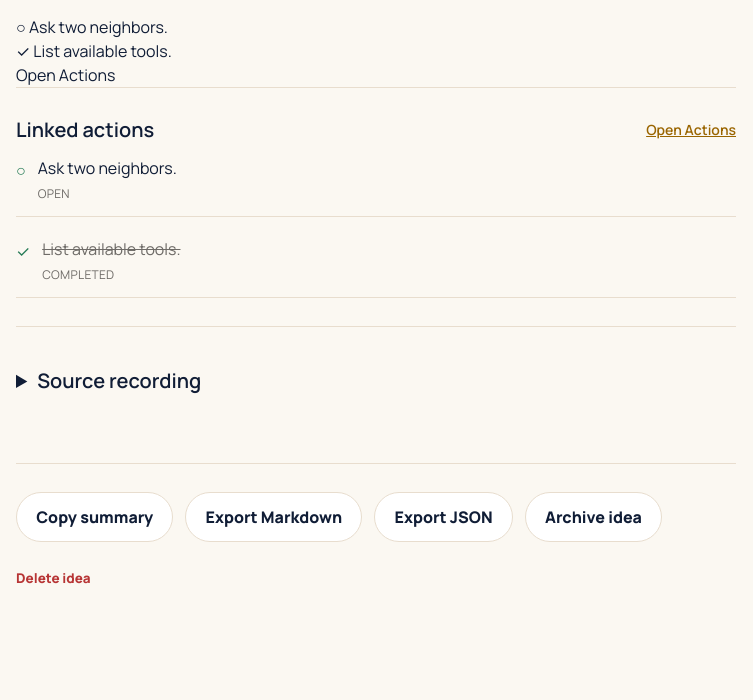
Scenario: IdeaDetailScreen › archives immediately even with open actions and offers undo
(page scrolled)
Click the button "Archive idea" at (593, 517), box [525, 492, 662, 542]
(page scrolled)
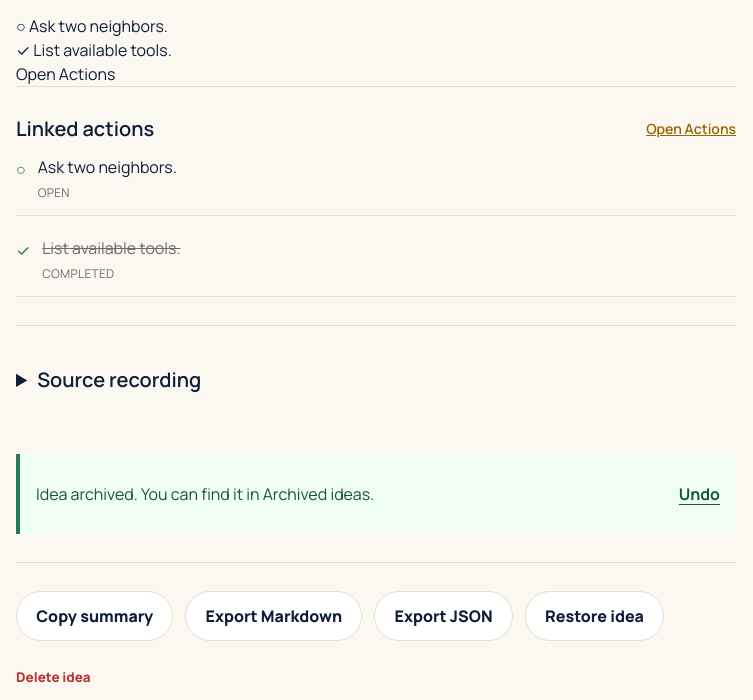
Now the button "Restore idea" is shown, box [525, 591, 664, 641]
Now the message shows "Idea archived", box [36, 483, 374, 505]
Click the button "Undo" at (699, 494), box [679, 470, 720, 518]
(page scrolled)
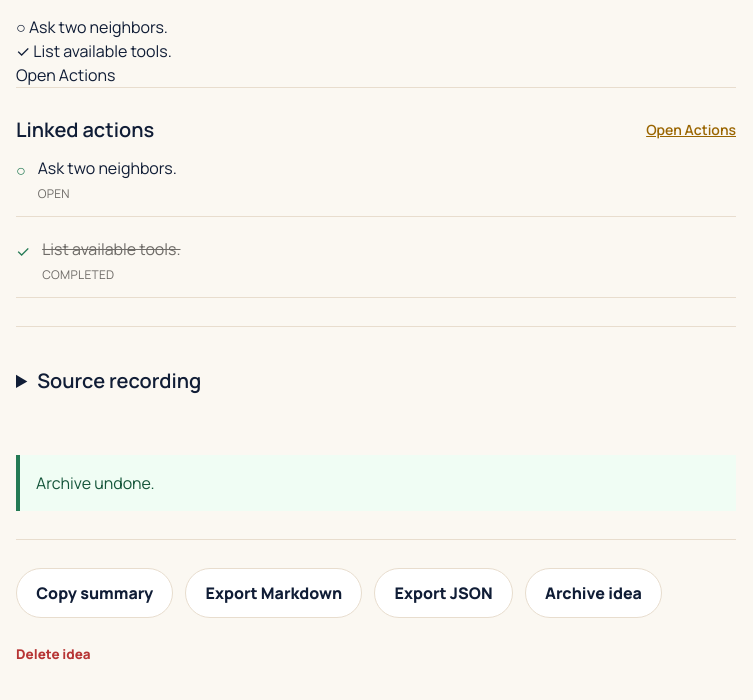
Now the button "Archive idea" is shown, box [525, 568, 662, 618]
